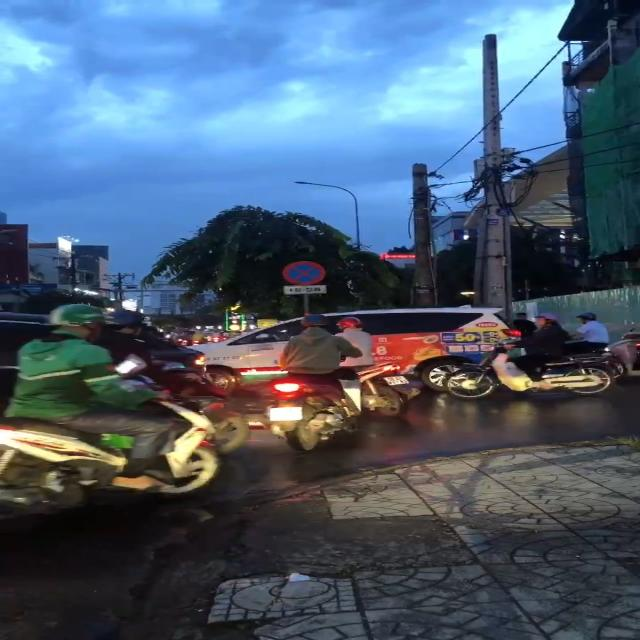Bien bao cam dung xe va do xe: (278, 259, 334, 287)
